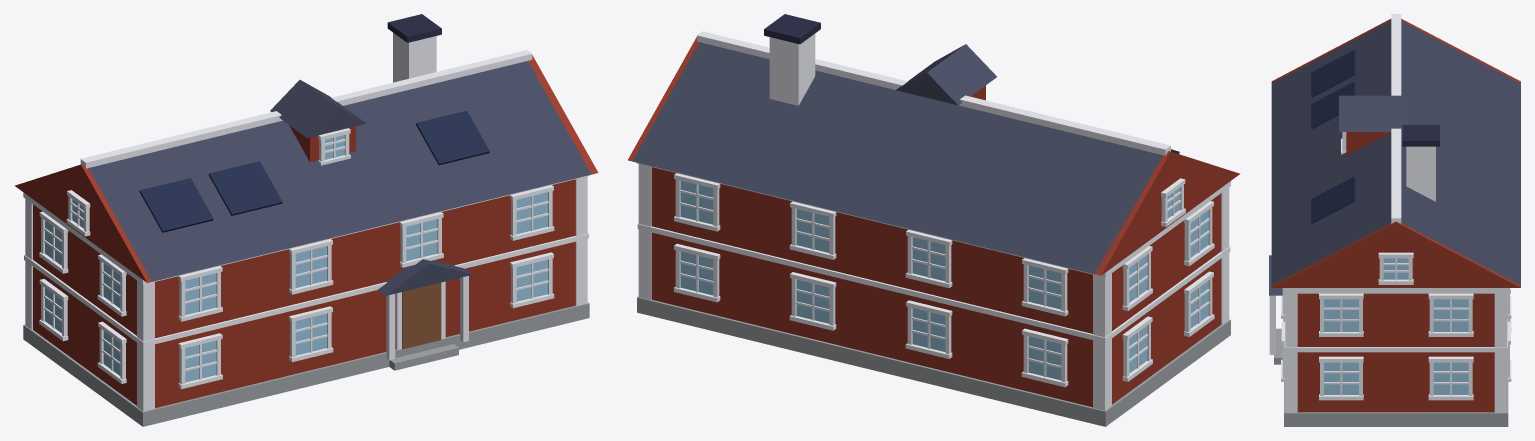
File: house-2x1-2f-stuga-a-solar.glb
3 renders of one model, left to right at view 1: azimuth 30°, elevation 25°; view 2: azimuth 150°, elevation 25°; view 3: azimuth 270°, elevation 25°, orthographic. The views are drawn at different scales.
Parts seen in each view (by area): view 1: house-2x1-2f-stuga-a-solar; view 2: house-2x1-2f-stuga-a-solar; view 3: house-2x1-2f-stuga-a-solar.
Boxes of the visible parts, left/top/right/bottom form: house-2x1-2f-stuga-a-solar: left=15, top=14, right=598, bottom=426; house-2x1-2f-stuga-a-solar: left=628, top=14, right=1240, bottom=426; house-2x1-2f-stuga-a-solar: left=1269, top=14, right=1520, bottom=426.
Size of the model in its own units: 2 by 1.1 by 1.01.
1 material, 1 textured.
